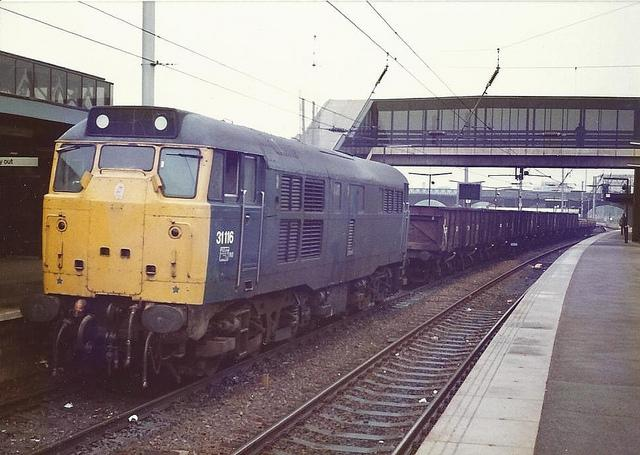Train: (42, 108, 583, 376)
